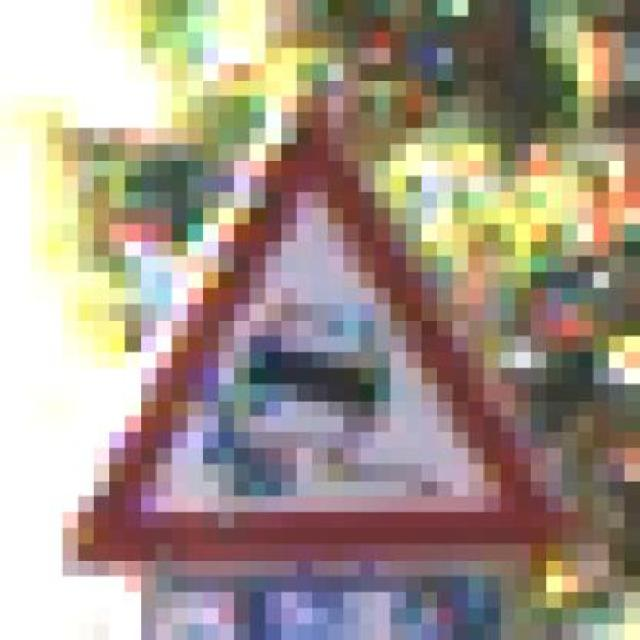Slippery Road Ahead: (62, 64, 562, 576)
